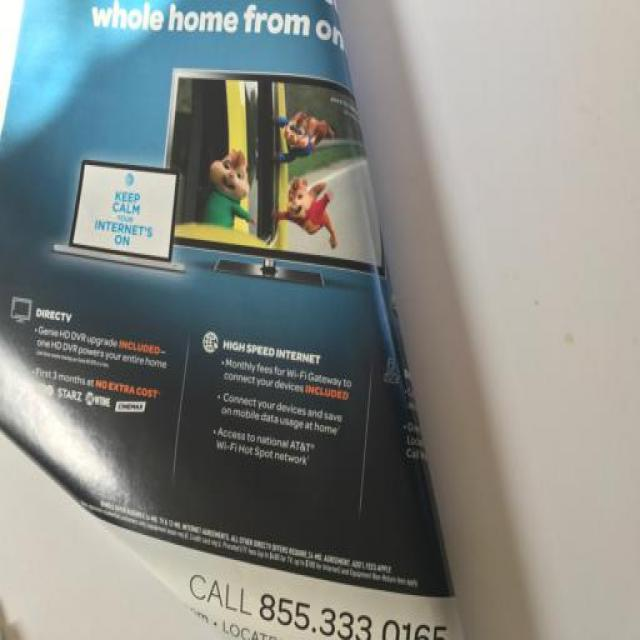paper: (1, 1, 487, 636)
